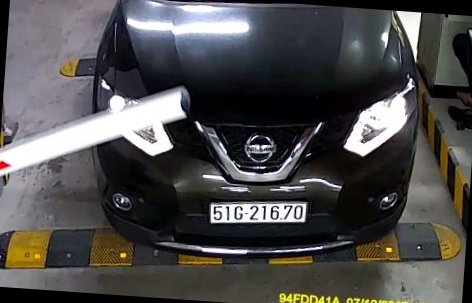plate: (208, 196, 307, 232)
